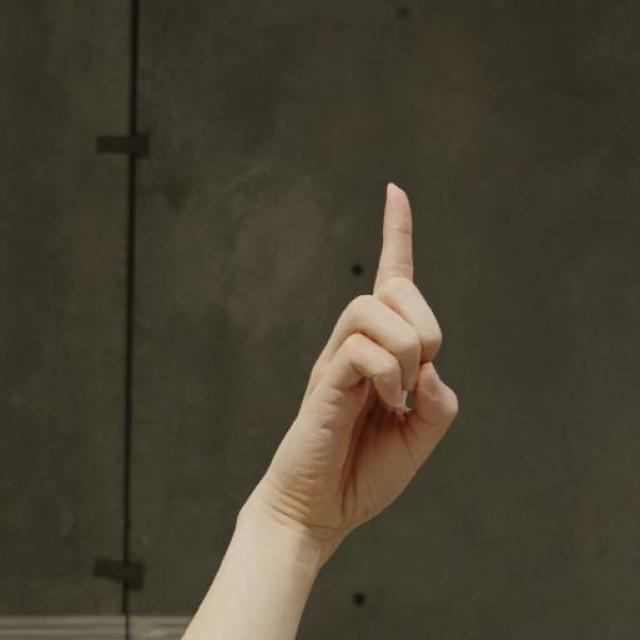D: (231, 178, 461, 527)
